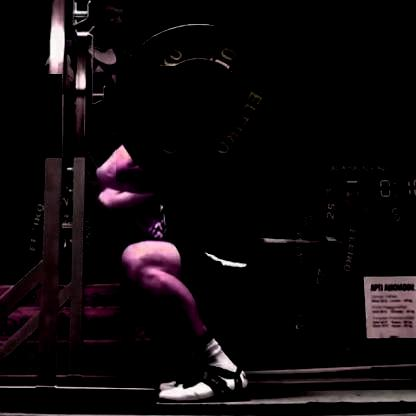barbell: (117, 24, 283, 182)
